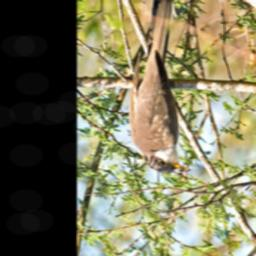Cuckoo: (128, 0, 190, 174)
